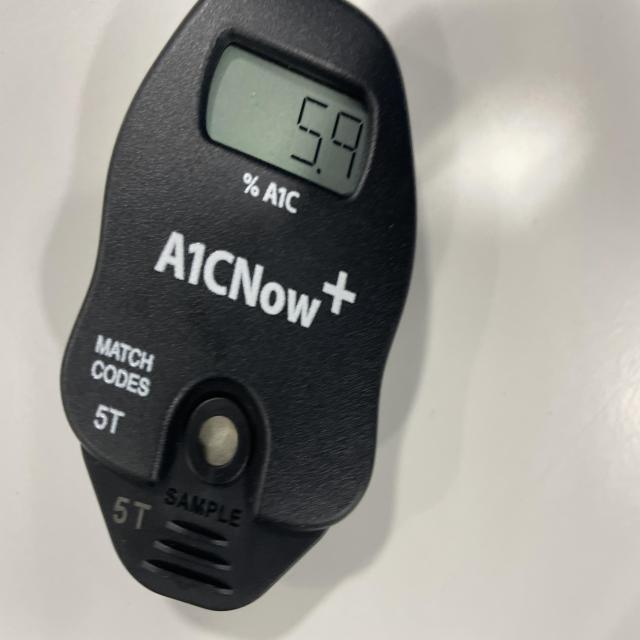hba1c: (58, 0, 419, 614)
